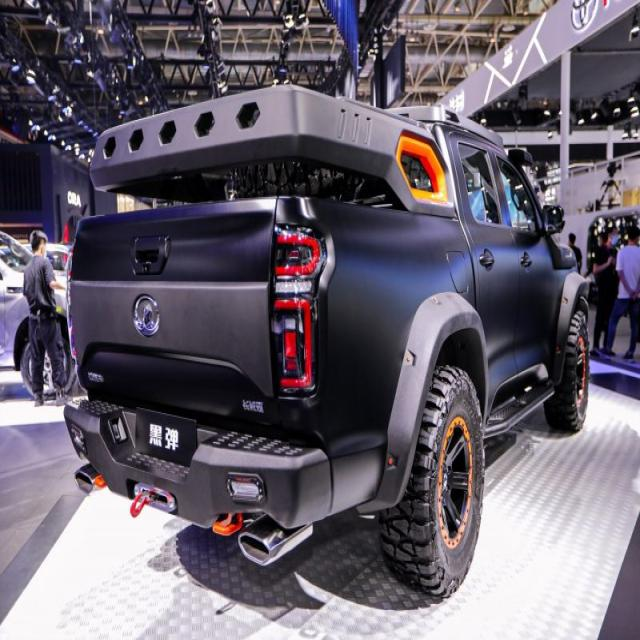Pickup Trucks: (64, 87, 590, 600)
